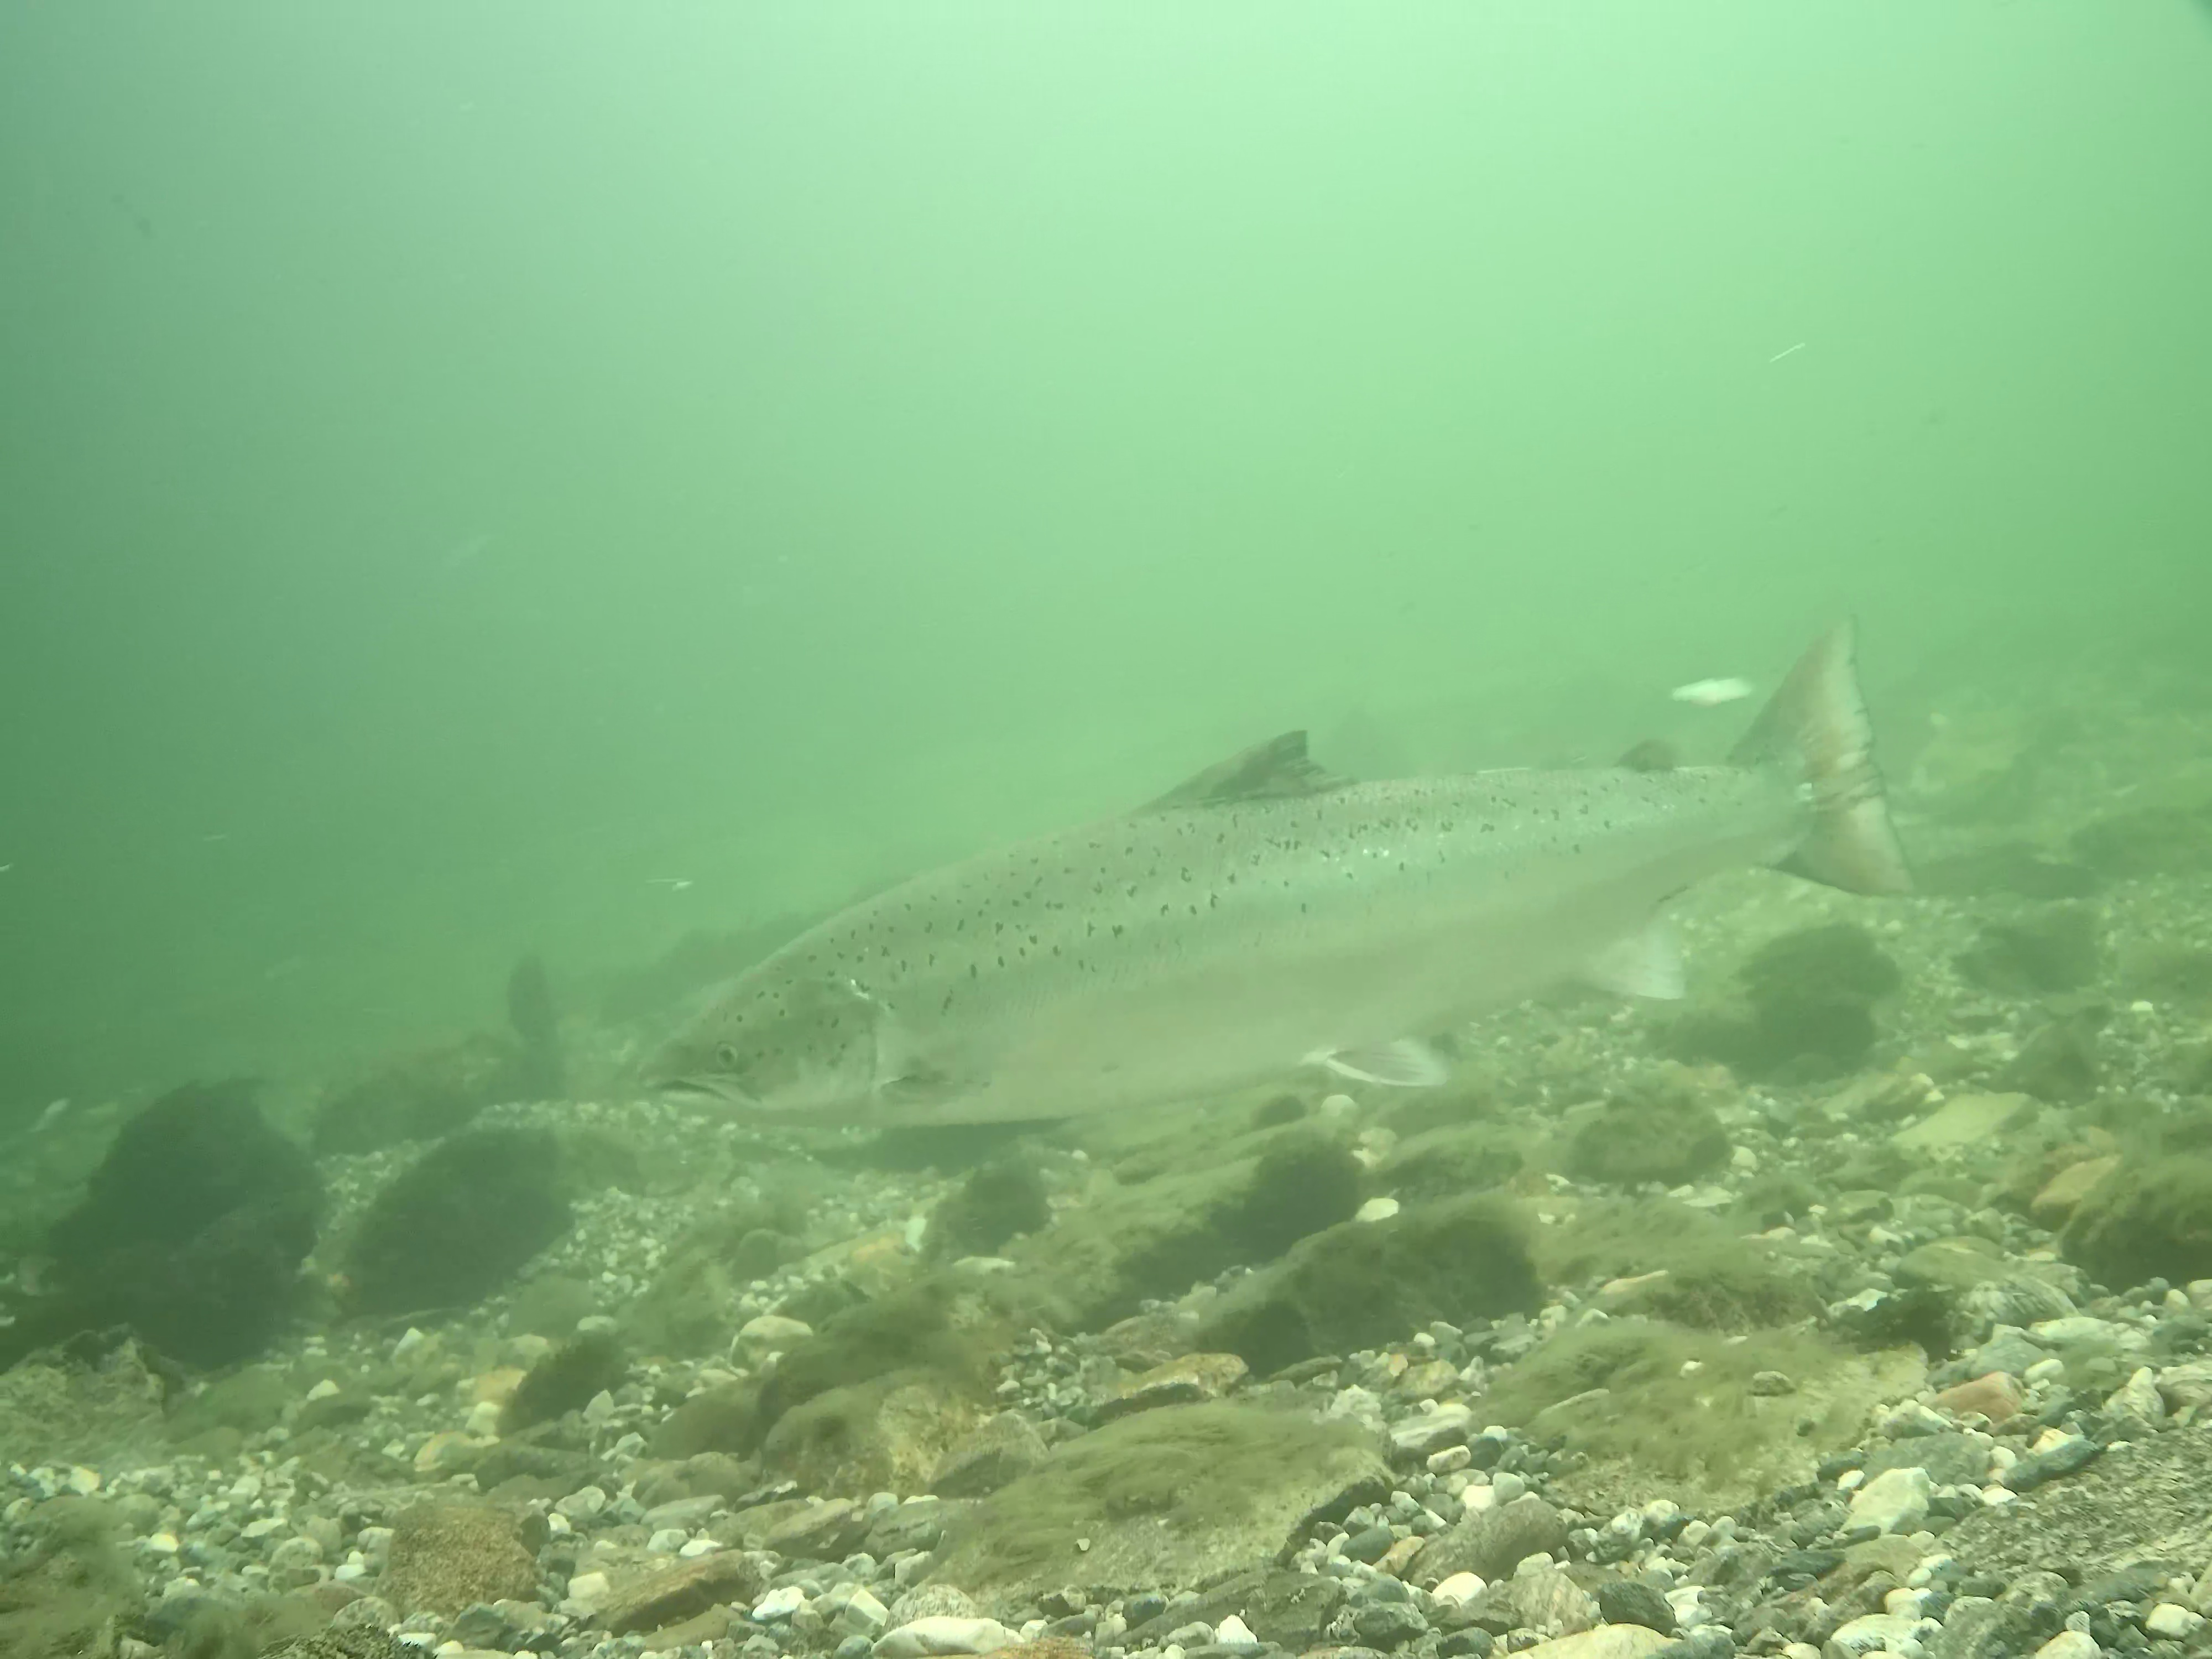salmon: (634, 606, 1928, 1133)
